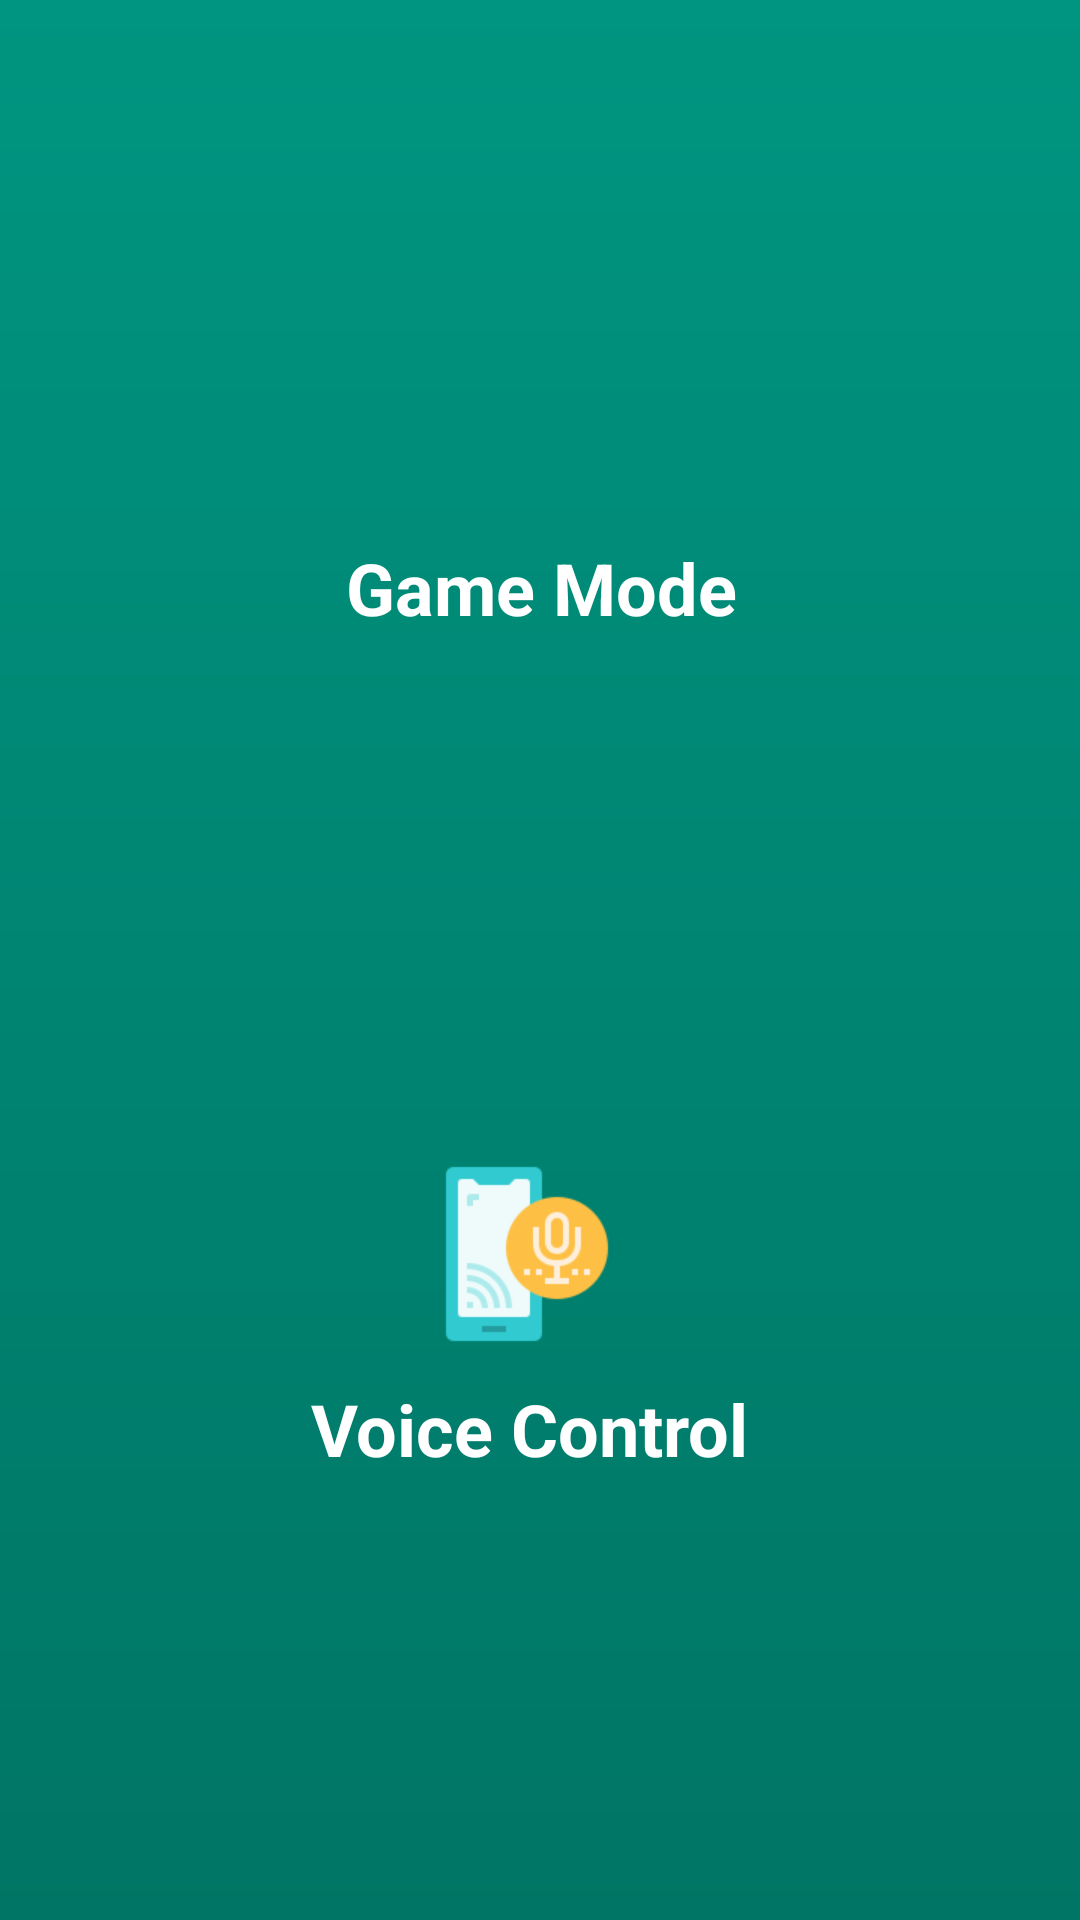

Icons on this 1080w x 1920h Android screen, each with the point to tap as (x=x, y=y):
recording: (x=527, y=1254)
